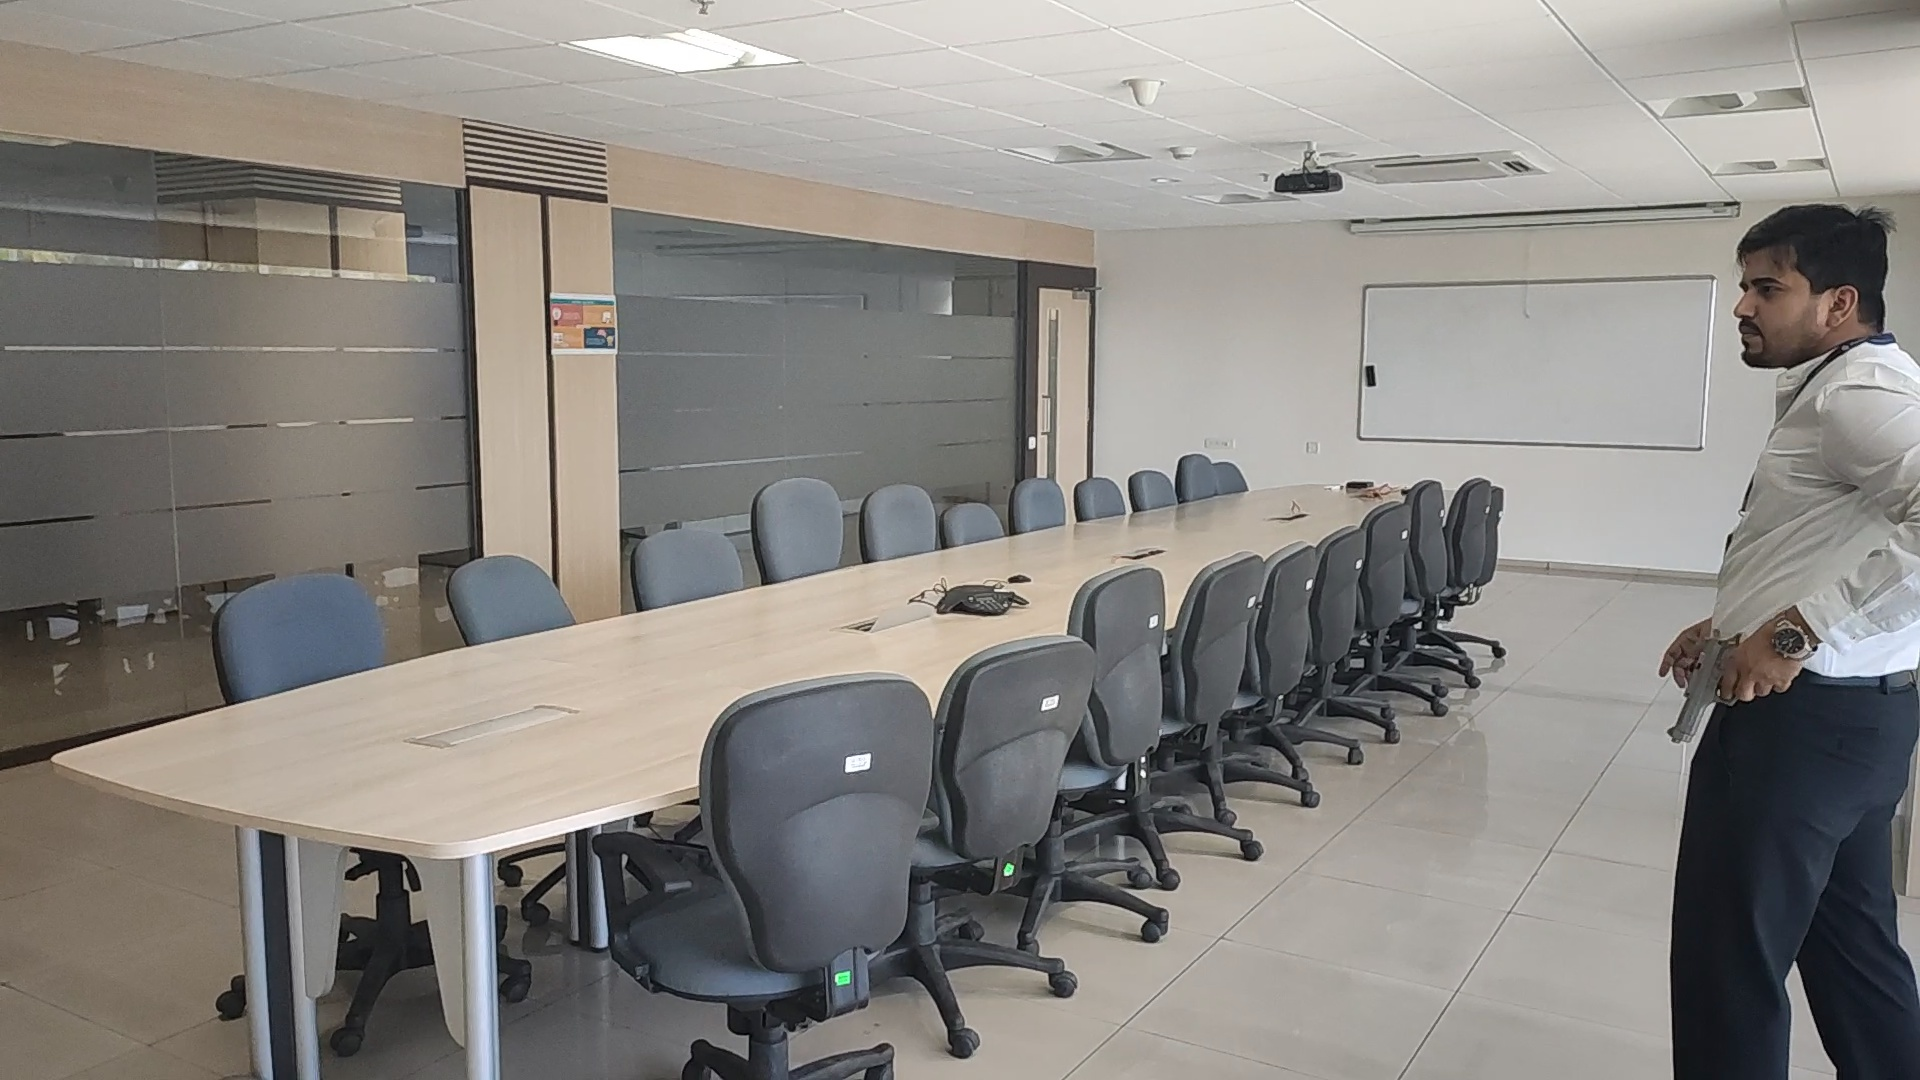gun: (1683, 638, 1735, 745)
